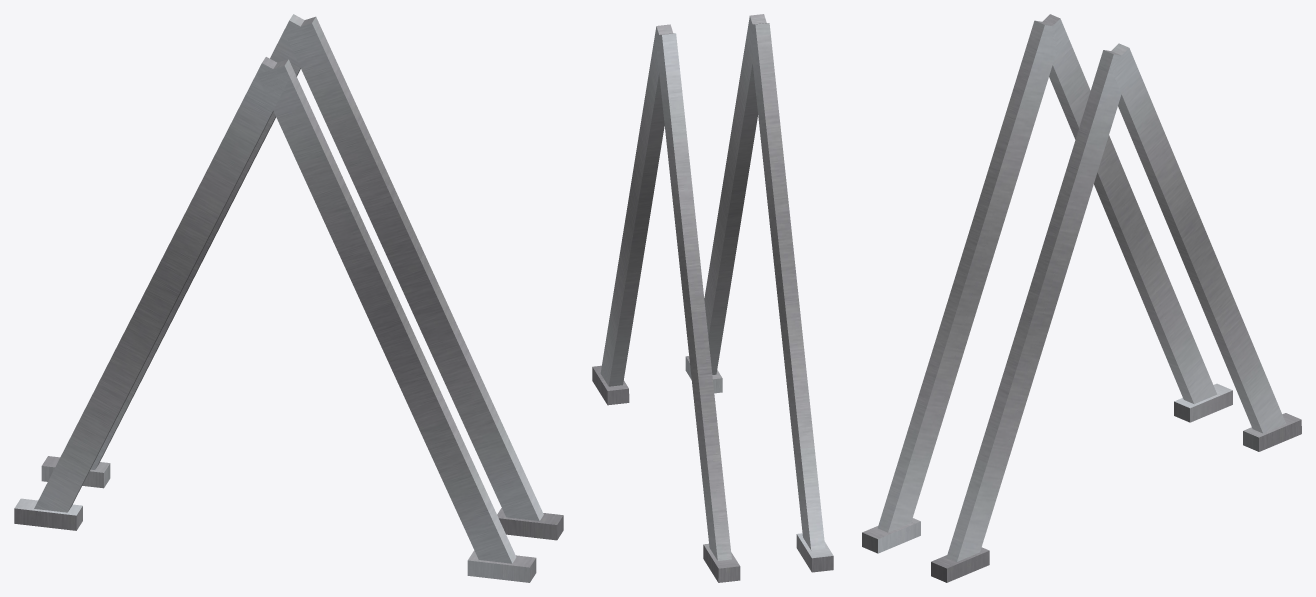
File: ferris_base.obj
The picture shows the model from 3 angles, left to right: view 1: azimuth 30°, elevation 25°; view 2: azimuth 150°, elevation 25°; view 3: azimuth 270°, elevation 25°; orthographic projection. The views are drawn at different scales.
Parts seen in each view (by area): view 1: Stands_Plane.001; view 2: Stands_Plane.001; view 3: Stands_Plane.001.
Part boxes in pixels (x1,y1,x2,y2): Stands_Plane.001: (14, 14, 563, 582); Stands_Plane.001: (592, 14, 833, 582); Stands_Plane.001: (862, 14, 1301, 582).
Bounding box in the file's own units: 7.8 × 8.97 × 7.83.
1 material, 1 textured.
